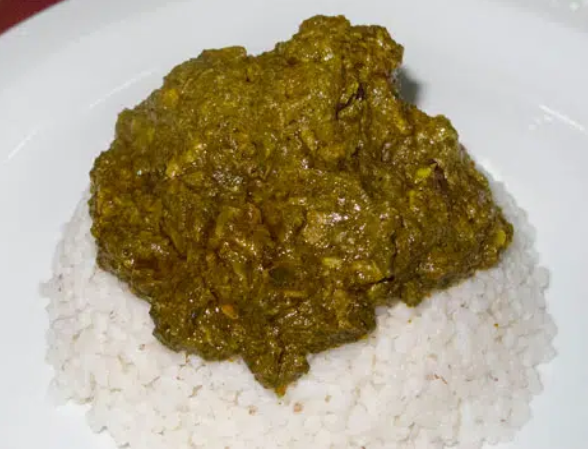attieke: (353, 350, 511, 441)
sauce feuilles vertes: (137, 52, 399, 301)
